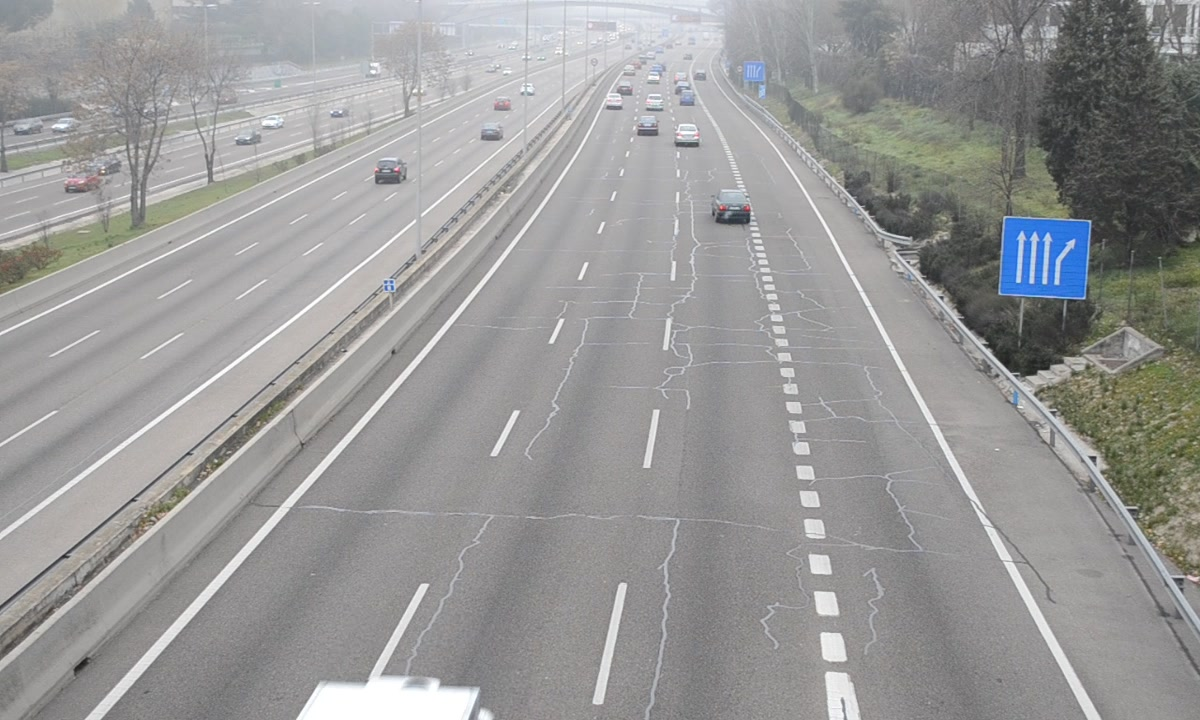car: (713, 188, 753, 225), (672, 121, 702, 148)
